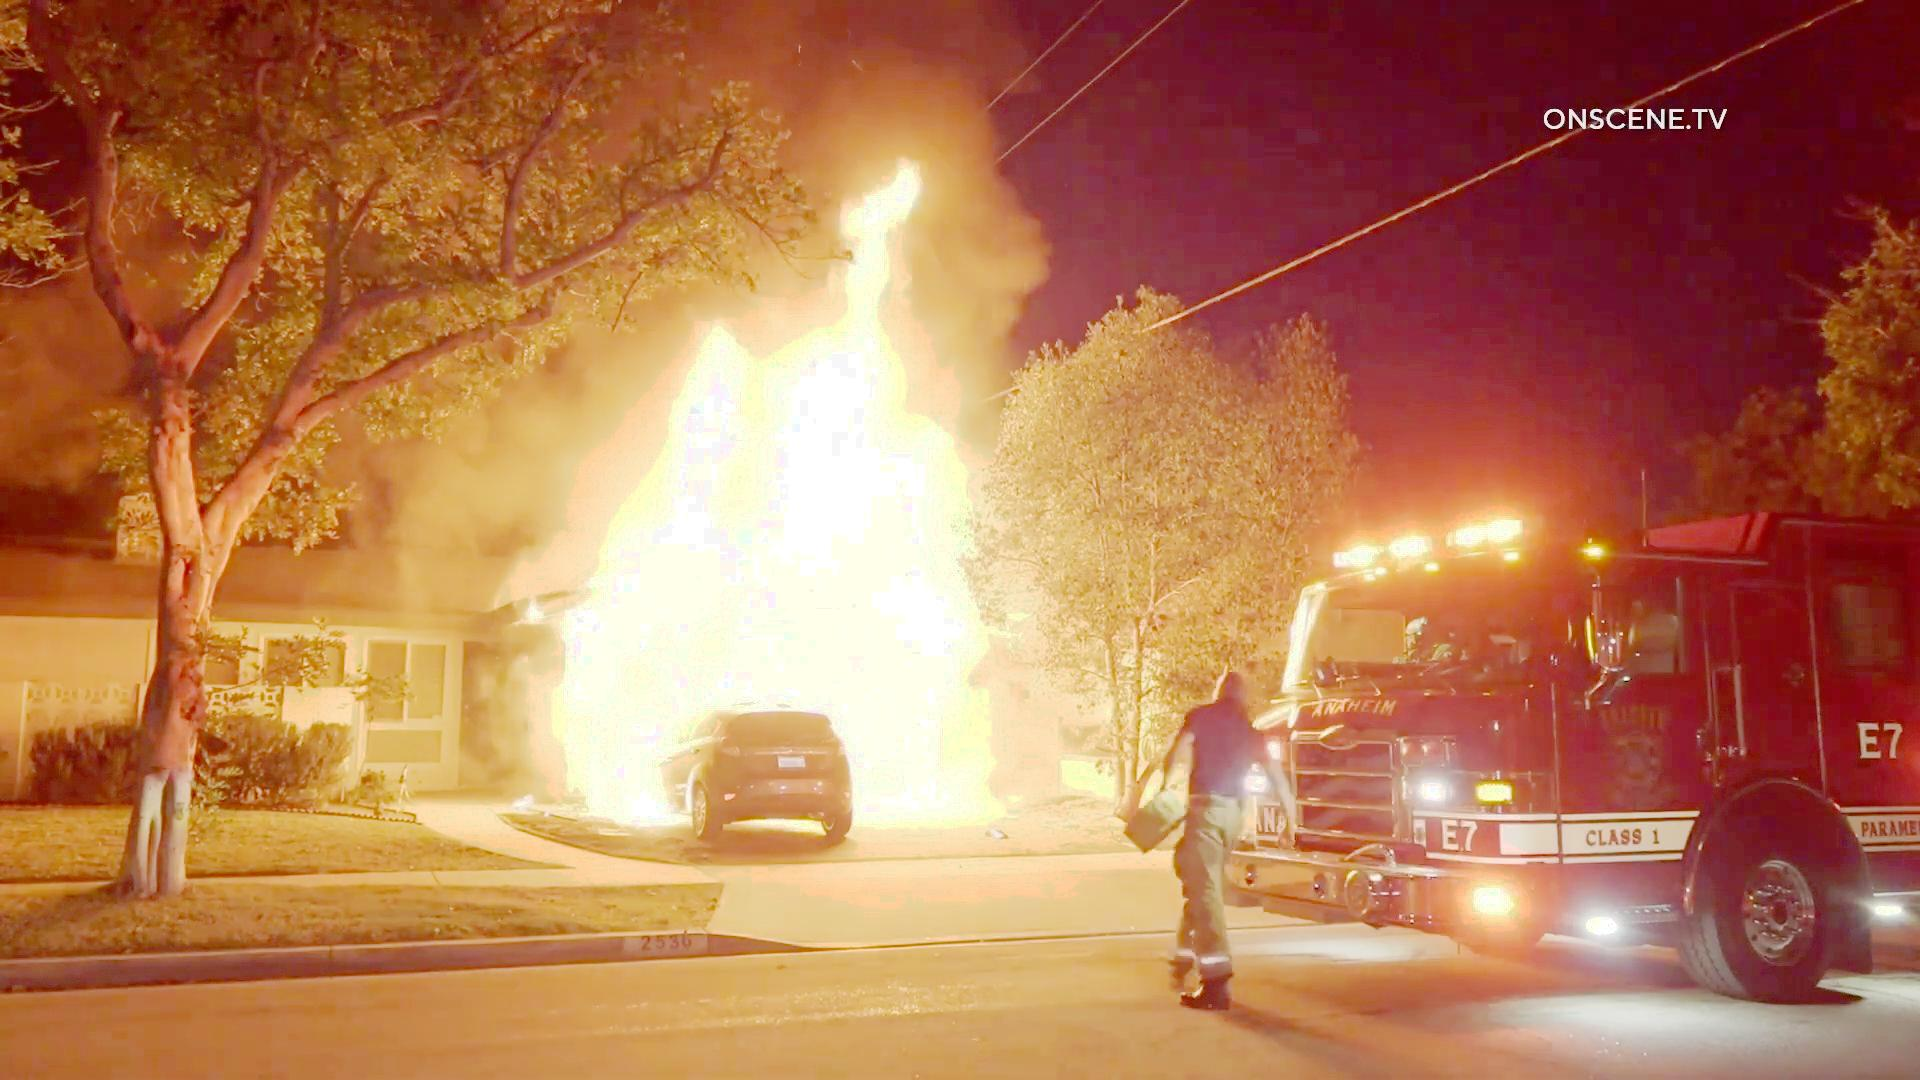fire: (585, 157, 1001, 811)
smoke: (633, 5, 960, 141)
